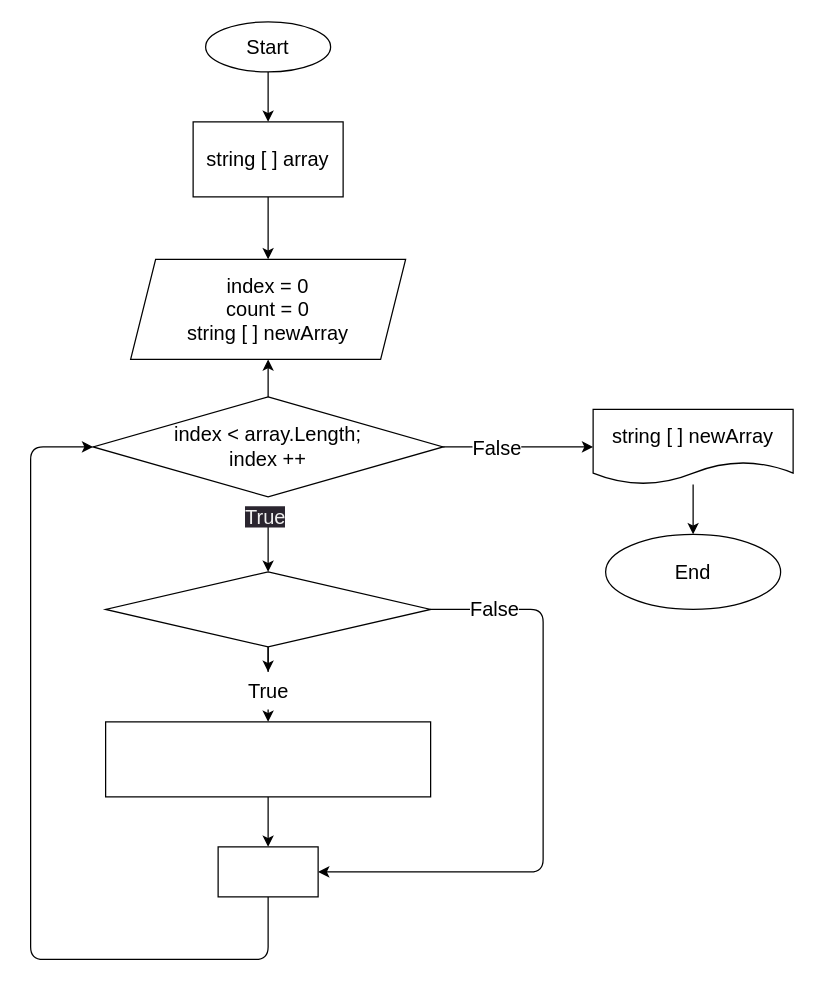
Some shapes in this 815 by 991 pixel diagram are drawn without their labels. The box of each missing label's shape, as (x1, y1, x2, y2) in pixels:
count < = 3: (104, 571, 431, 647)
count++: (217, 846, 318, 897)
newArray [ count ] = array [ index ]: (104, 721, 431, 797)
